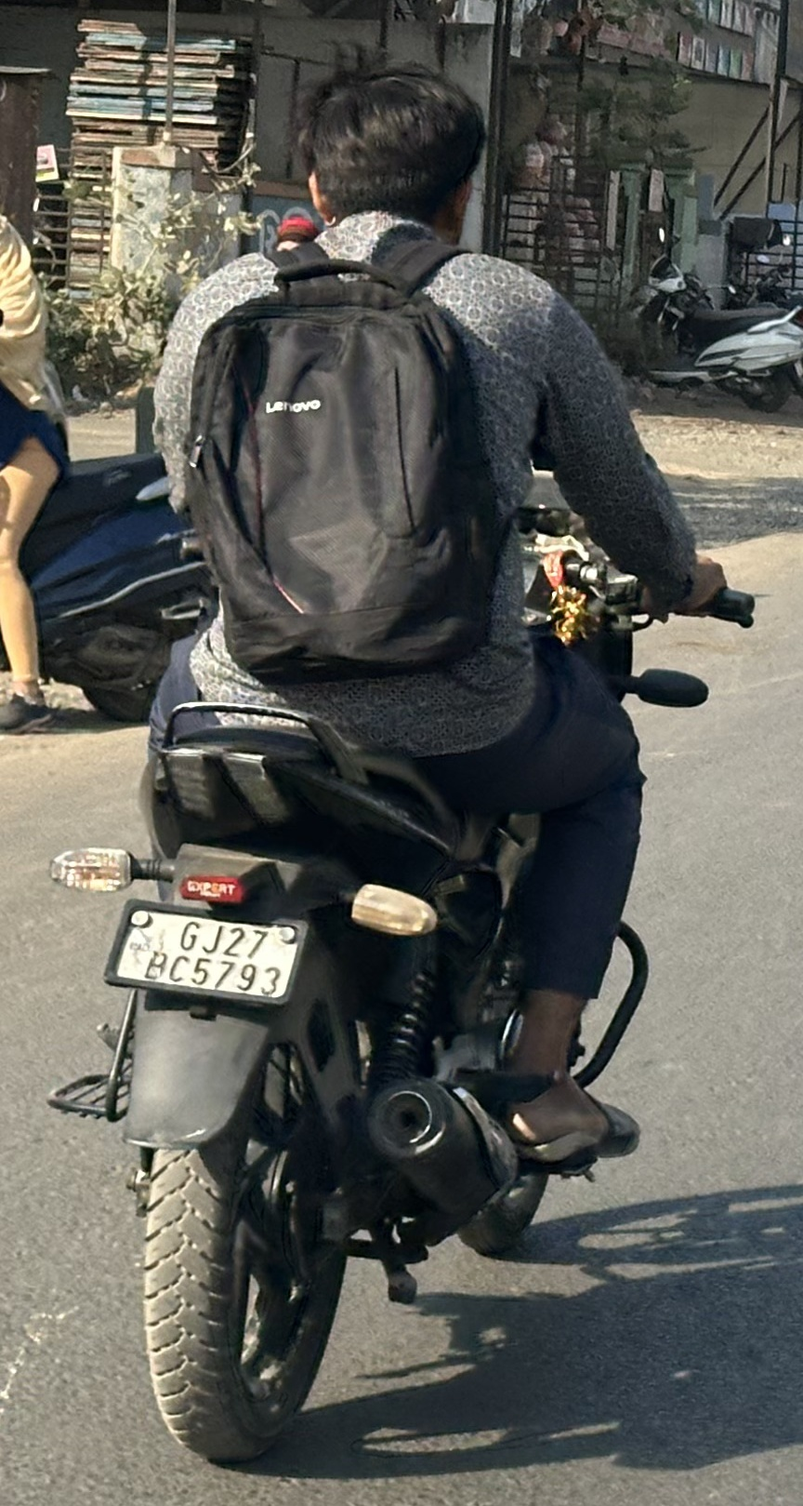BikeWithRider: (35, 45, 770, 1478)
NoHelmet: (270, 47, 509, 263)
